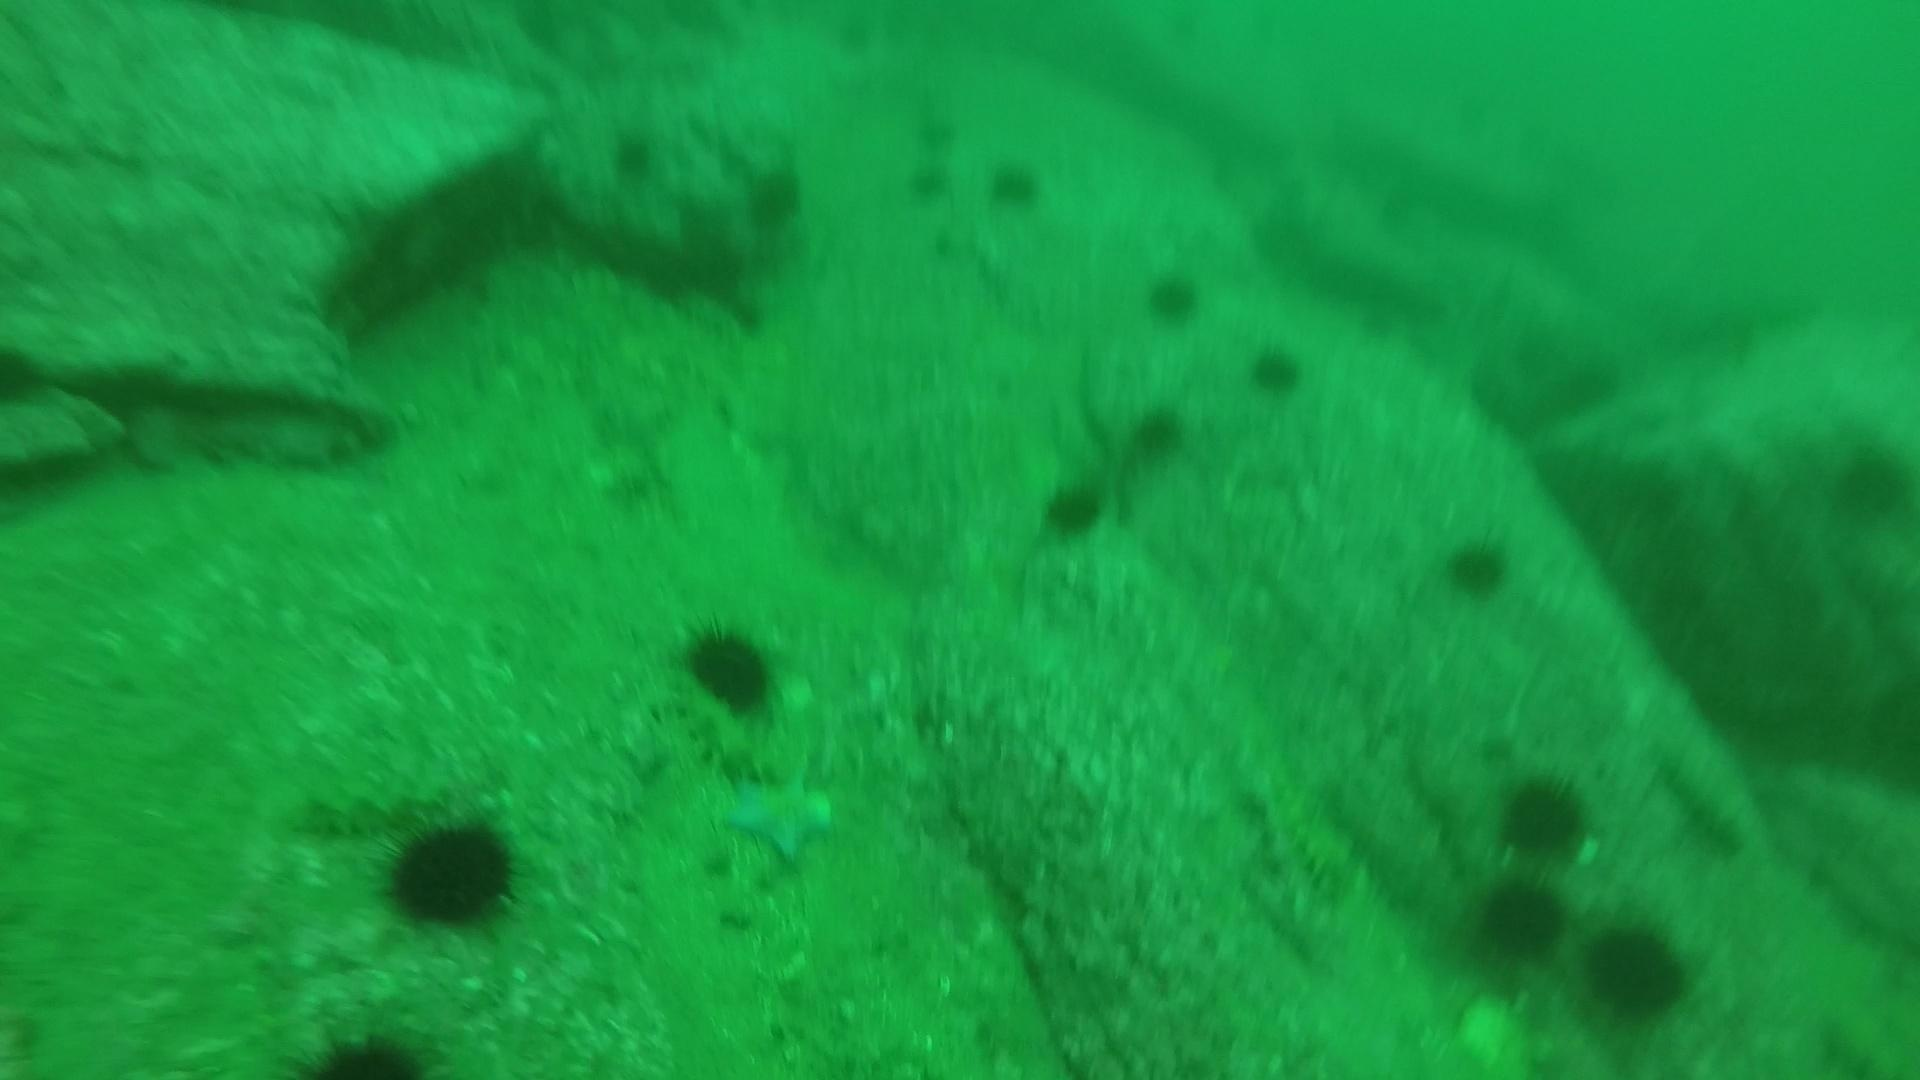echinus: (375, 808, 524, 935), (1578, 916, 1695, 1023), (676, 616, 785, 720), (1466, 872, 1571, 965), (1493, 769, 1596, 861), (290, 1022, 439, 1077), (1825, 434, 1915, 525), (1437, 530, 1516, 603), (738, 160, 808, 237), (1036, 475, 1112, 545), (1124, 401, 1189, 465), (1139, 265, 1207, 328), (1244, 340, 1309, 400), (982, 156, 1048, 214), (901, 156, 967, 214), (909, 111, 973, 169), (605, 127, 662, 186)
holothurian: (647, 659, 802, 793), (280, 756, 518, 839), (1259, 778, 1366, 910)
starfish: (716, 766, 843, 866)
